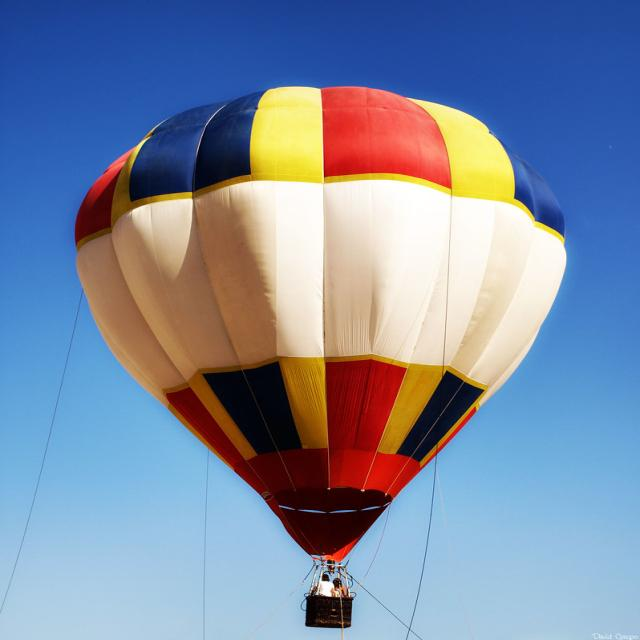balloon: (73, 85, 569, 575)
